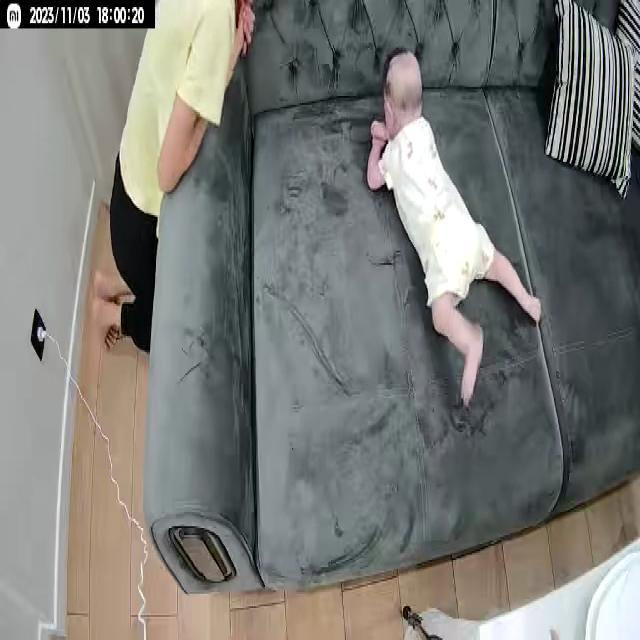baby: (366, 47, 544, 411)
